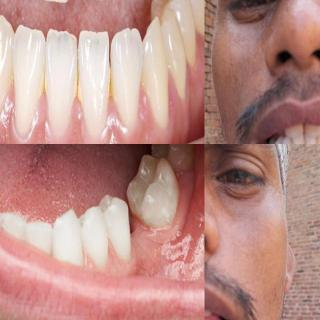calculus: (36, 72, 60, 112), (68, 63, 90, 105), (104, 66, 121, 108)
